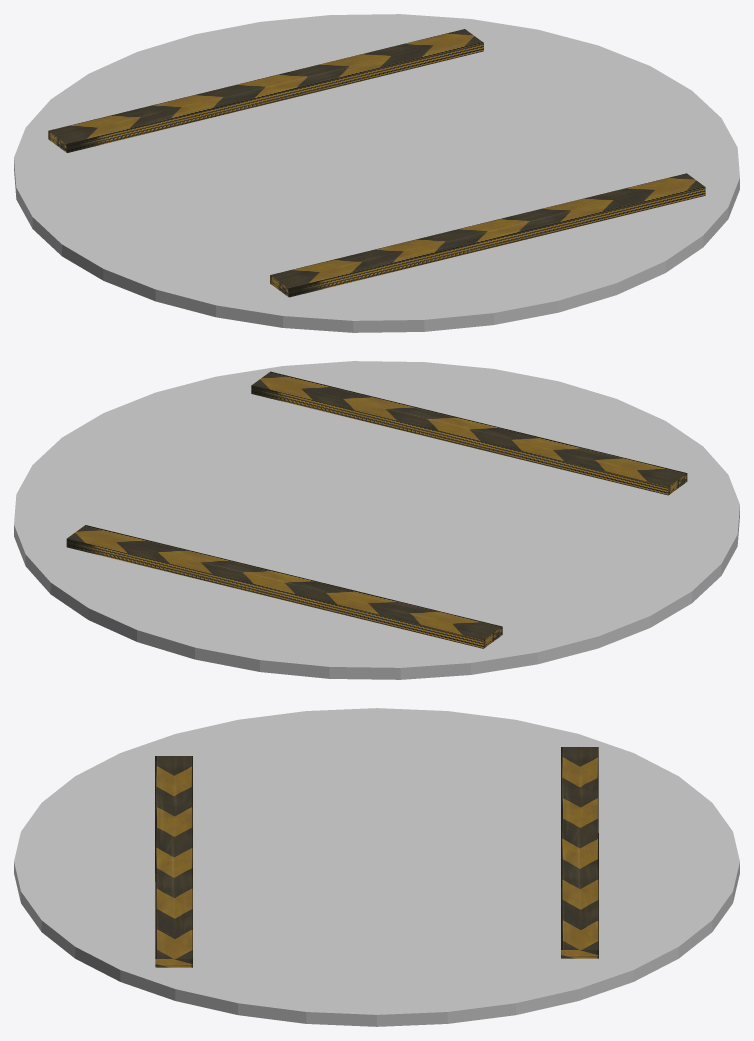
The model's file is car-stand.fbx.
3 renders of one model, top to bottom at view 1: azimuth 30°, elevation 25°; view 2: azimuth 150°, elevation 25°; view 3: azimuth 270°, elevation 25°, orthographic.
Visible parts, largest first — view 1: Cylinder.004; view 2: Cylinder.004; view 3: Cylinder.004.
Part boxes in pixels (x1,y1,x2,y2): Cylinder.004: (14, 14, 739, 332); Cylinder.004: (14, 361, 739, 679); Cylinder.004: (14, 708, 739, 1026).
Bounding box in the file's own units: 1100 × 34.2 × 1100.
